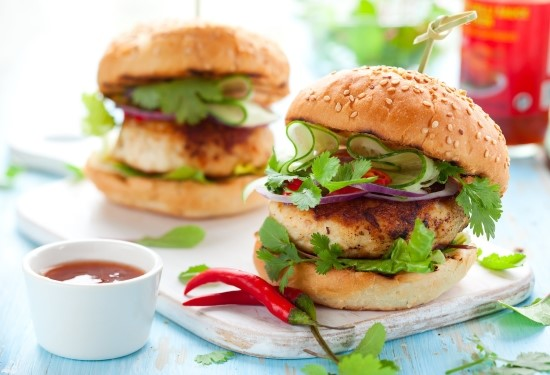slice of bread: (296, 59, 519, 153), (253, 262, 468, 309), (103, 28, 286, 80), (100, 174, 262, 211)
